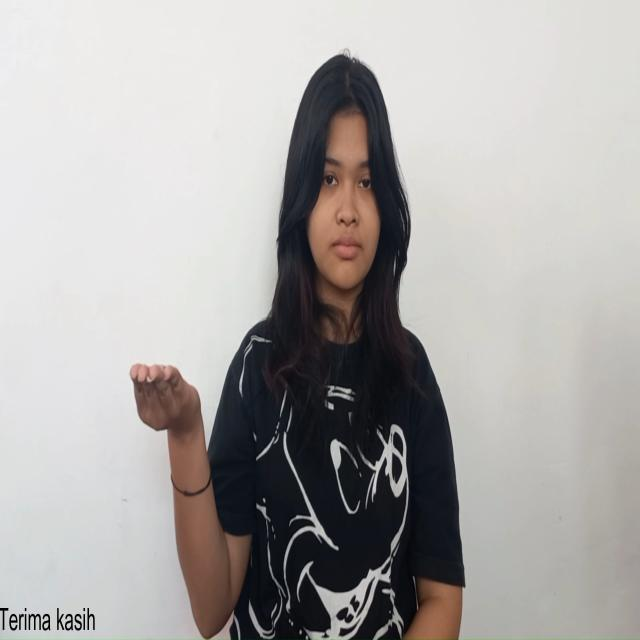Terima kasih -BISINDO-: (128, 354, 205, 453)
